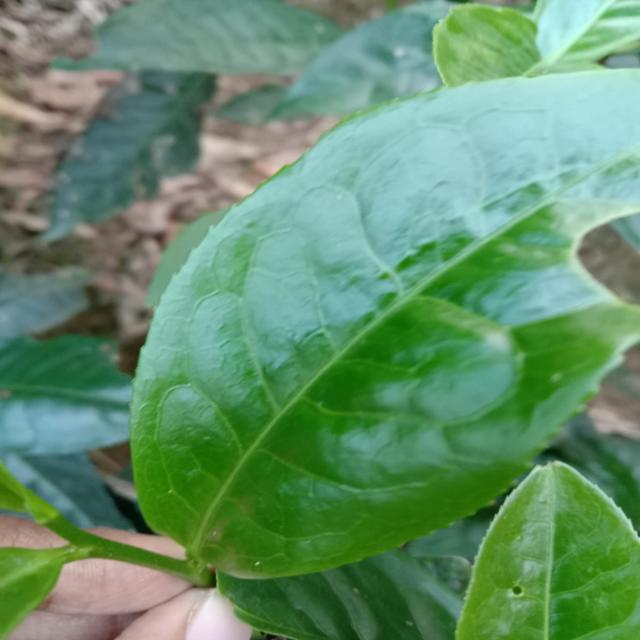Category C 4-7 days: (89, 45, 640, 612)
